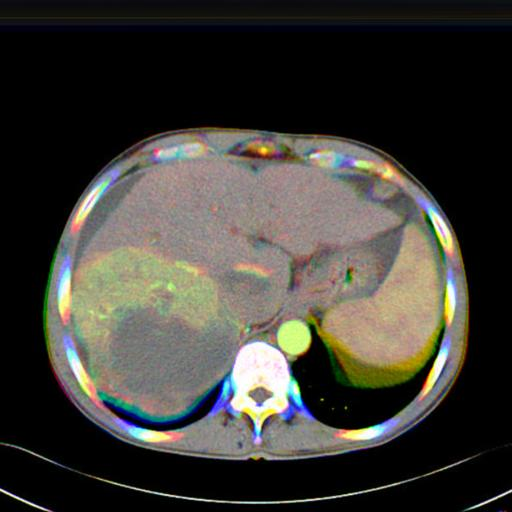Tumor: (100, 305, 238, 422), (218, 264, 282, 325)
